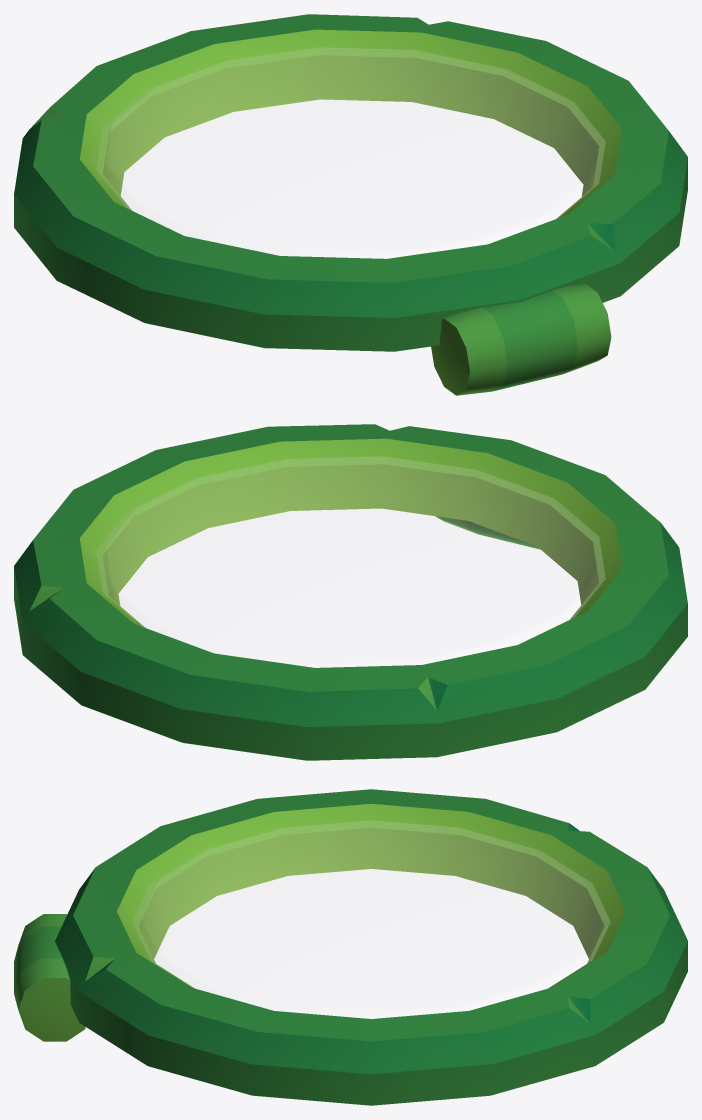
The model's file is compass_base_compass_lid.glb.
3 views of the same model, one above another, from view 1: azimuth 30°, elevation 25°; view 2: azimuth 150°, elevation 25°; view 3: azimuth 270°, elevation 25° (orthographic). The views are drawn at different scales.
Parts seen in each view (by area): view 1: compass_lid; view 2: compass_lid; view 3: compass_lid.
Part boxes in pixels (x1,y1,x2,y2): compass_lid: [14, 14, 687, 395]; compass_lid: [14, 424, 687, 760]; compass_lid: [14, 789, 687, 1105].
Bounding box in the file's own units: 0.574 × 0.107 × 0.6113.
2 materials, 1 textured.
